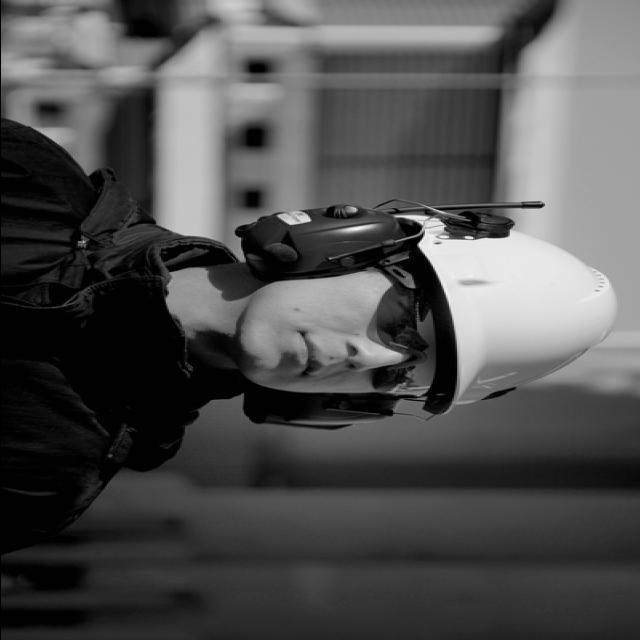safety_helmet: (240, 201, 614, 416)
